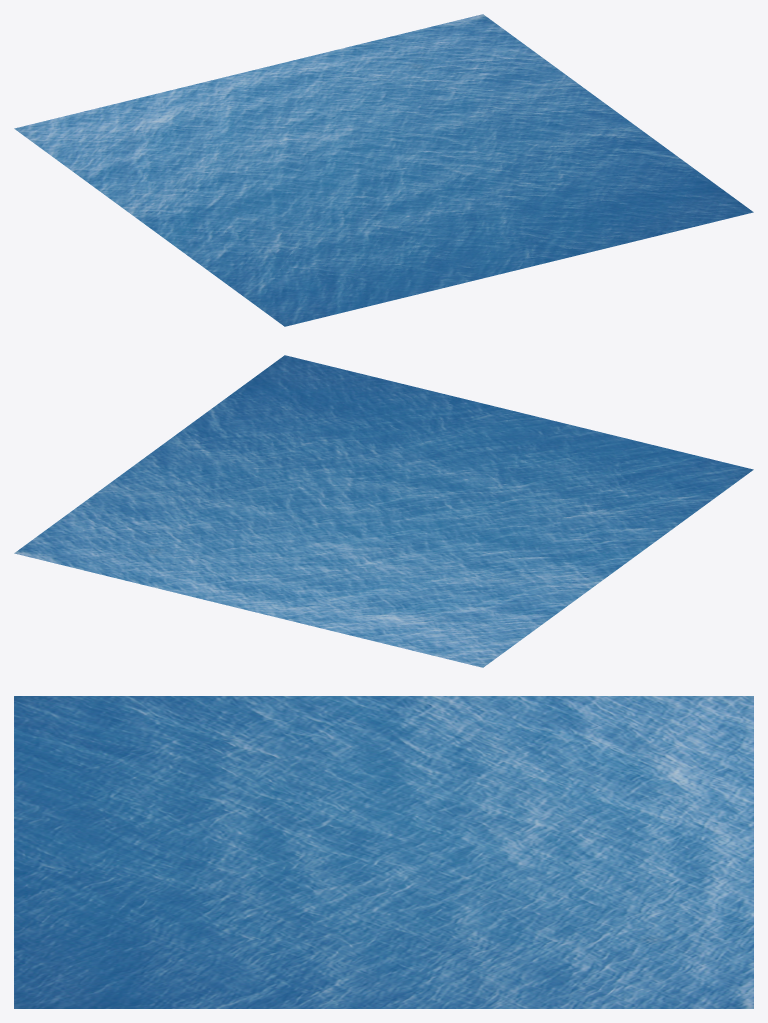
The model's file is water.glb.
The picture shows the model from 3 angles, top to bottom: view 1: azimuth 30°, elevation 25°; view 2: azimuth 150°, elevation 25°; view 3: azimuth 270°, elevation 25°; orthographic projection. The views are drawn at different scales.
Parts seen in each view (by area): view 1: water; view 2: water; view 3: water.
Part boxes in pixels (x1,y1,x2,y2): water: (14, 14, 753, 326); water: (14, 355, 753, 667); water: (14, 696, 753, 1008).
Bounding box in the file's own units: 500 × 8.43e-05 × 500.
1 material, 1 textured.
